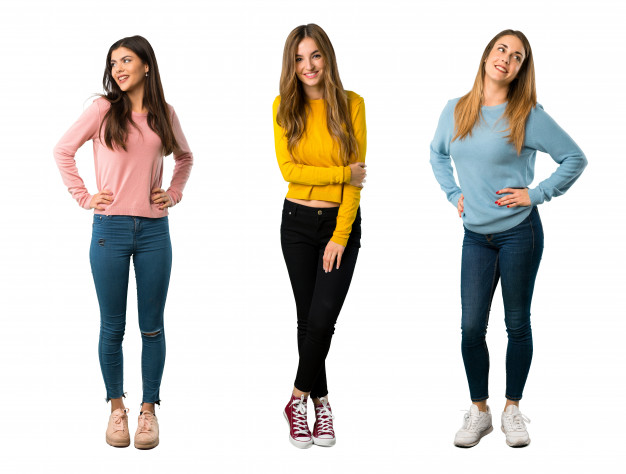person: (434, 23, 577, 231), (256, 26, 382, 218), (70, 31, 190, 222)
